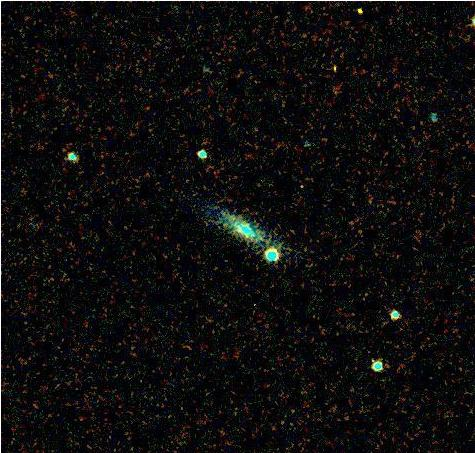star: (343, 0, 373, 30)
